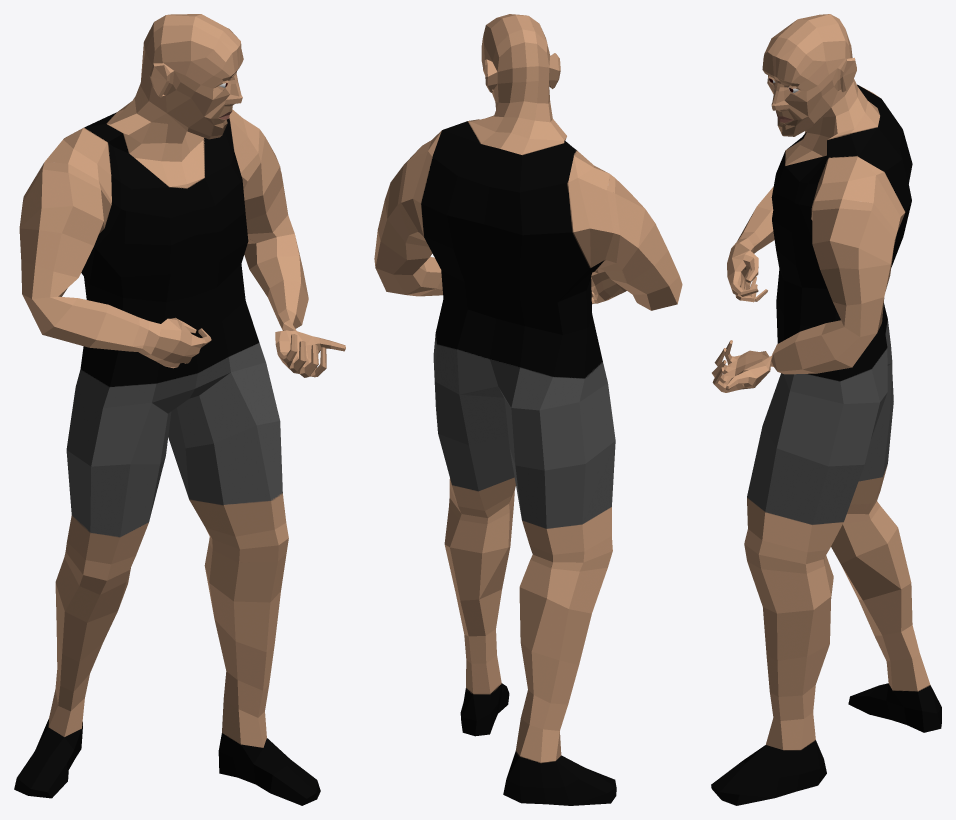
The model's file is PlayerIdle(161).obj.
The picture shows the model from 3 angles, left to right: view 1: azimuth 30°, elevation 25°; view 2: azimuth 150°, elevation 25°; view 3: azimuth 270°, elevation 25°; orthographic projection. The views are drawn at different scales.
Visible parts, largest first — view 1: Plane002; view 2: Plane002; view 3: Plane002.
Boxes of the visible parts, bbox=[...] form: Plane002: bbox=[14, 14, 345, 805]; Plane002: bbox=[374, 14, 682, 805]; Plane002: bbox=[711, 14, 941, 805].
Size of the model in its own units: 710 by 1793 by 504.
